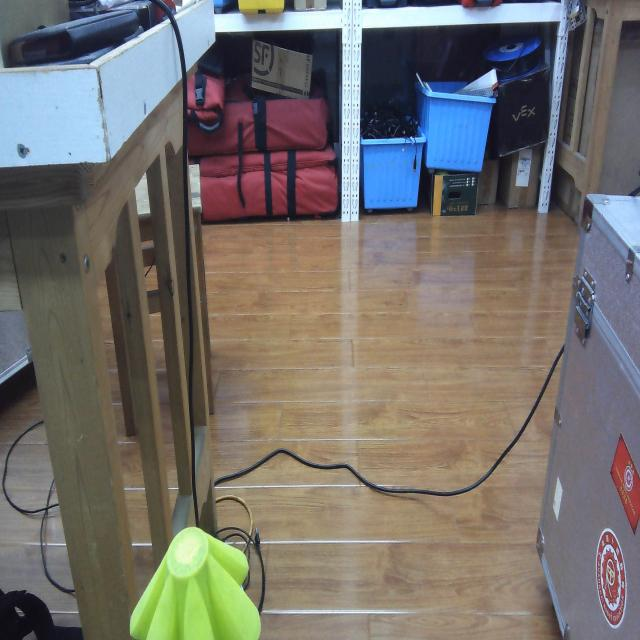Yellow-Stake-Head: (129, 526, 261, 640)
